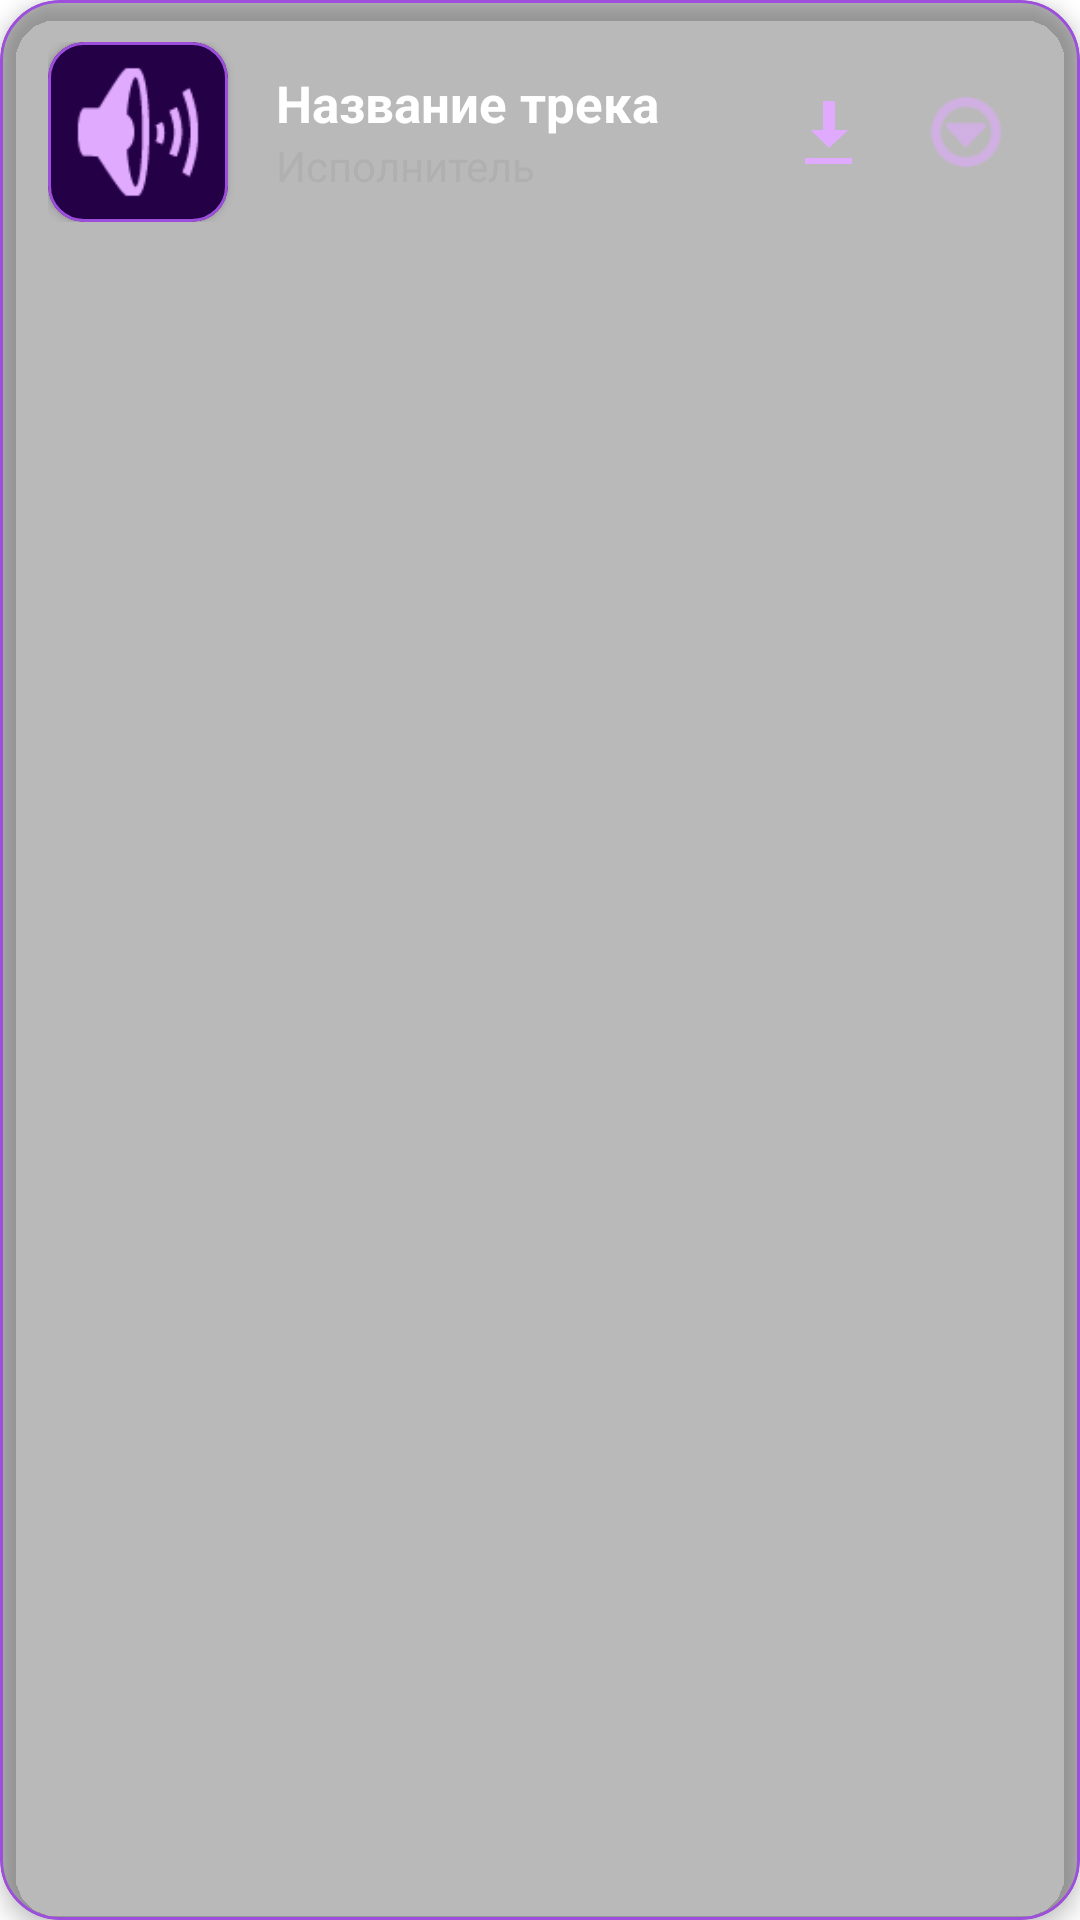

Named icons in this screenshot (1080 x 1920) and their centers, (x,y):
download done: (828,132)
lock silent mode off: (138,132)
more: (966,132)
